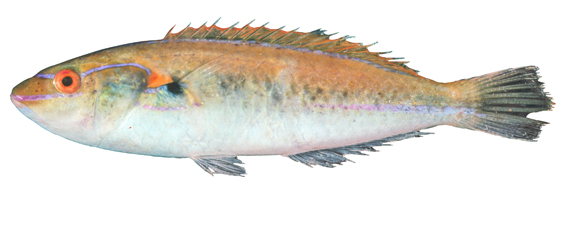fish: (10, 16, 556, 178)
